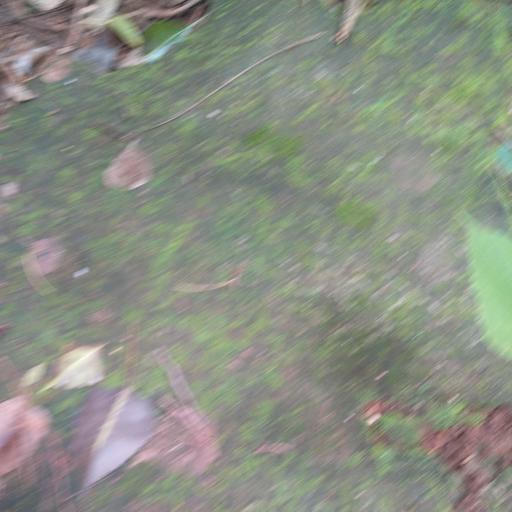algae: (17, 0, 512, 512)
